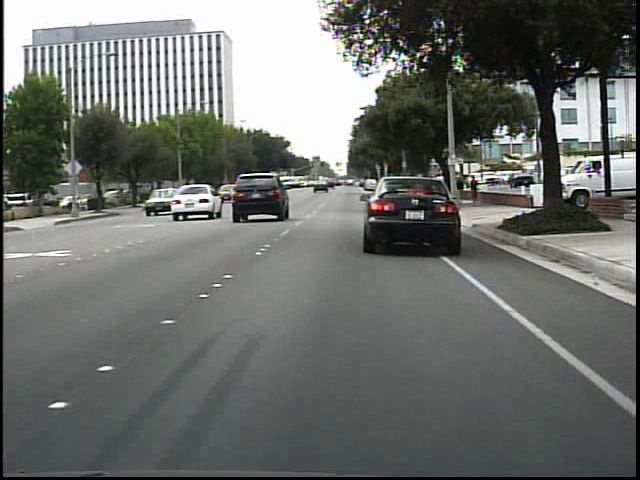person: (468, 174, 480, 203), (456, 176, 466, 204)
